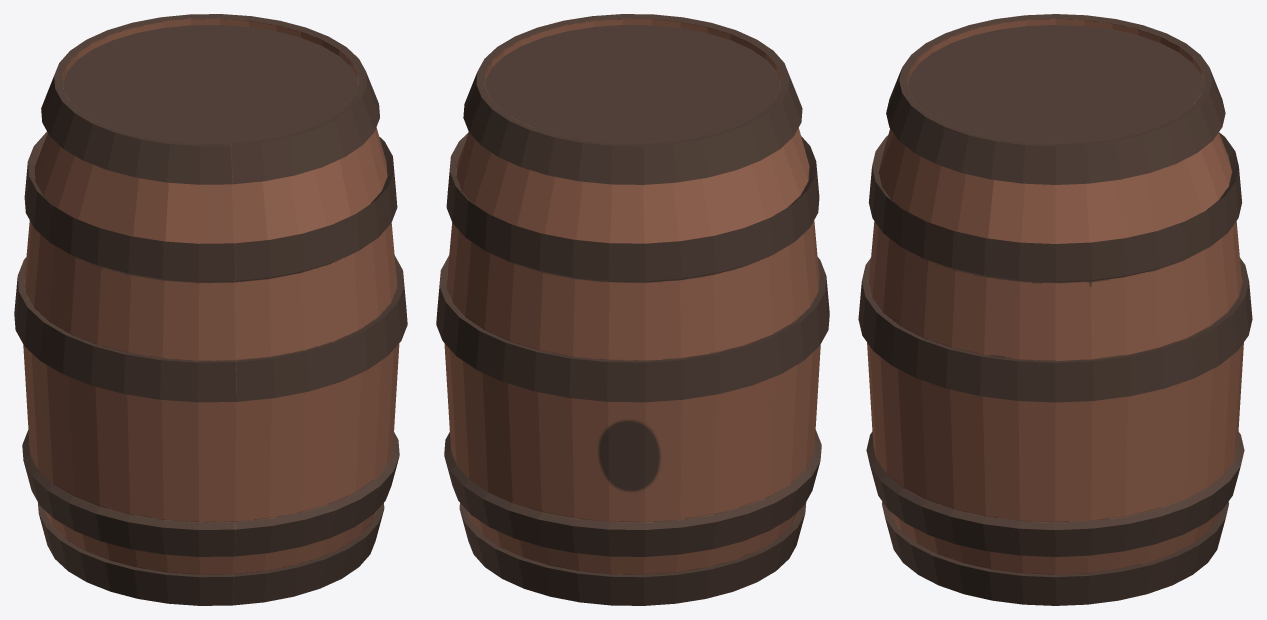
The model's file is barrel.fbx.
3 views of the same model, side by side, from view 1: azimuth 30°, elevation 25°; view 2: azimuth 150°, elevation 25°; view 3: azimuth 270°, elevation 25° (orthographic).
Parts seen in each view (by area): view 1: Barrel; view 2: Barrel; view 3: Barrel.
Part boxes in pixels (x1,y1,x2,y2): Barrel: (14,14,407,605); Barrel: (436,14,829,605); Barrel: (858,14,1252,605).
Size of the model in its own units: 1.28 by 1.63 by 1.28.
